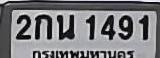1: (85, 14, 94, 39), (138, 14, 147, 39)
2: (15, 13, 30, 39)
4: (100, 14, 114, 39)
9: (118, 14, 132, 39)
A01: (34, 13, 51, 39)
A25: (56, 13, 73, 39)
